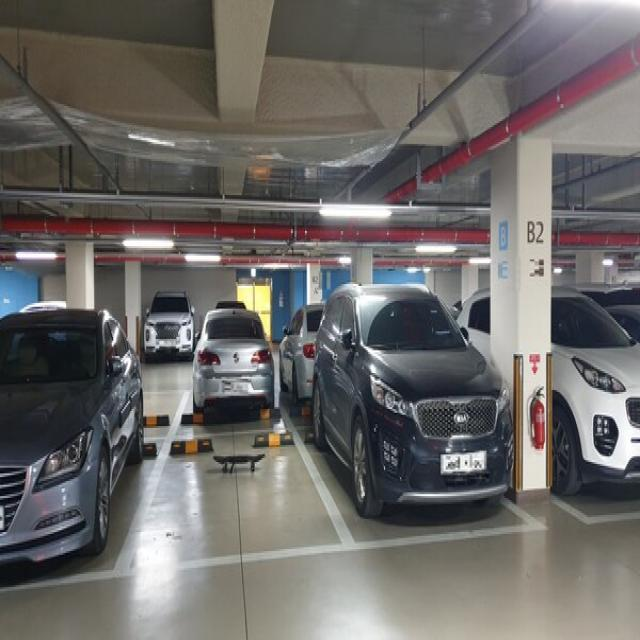empty: (133, 432, 318, 563)
occupied: (316, 273, 536, 525), (0, 297, 122, 568), (544, 278, 640, 520), (174, 298, 302, 417)
